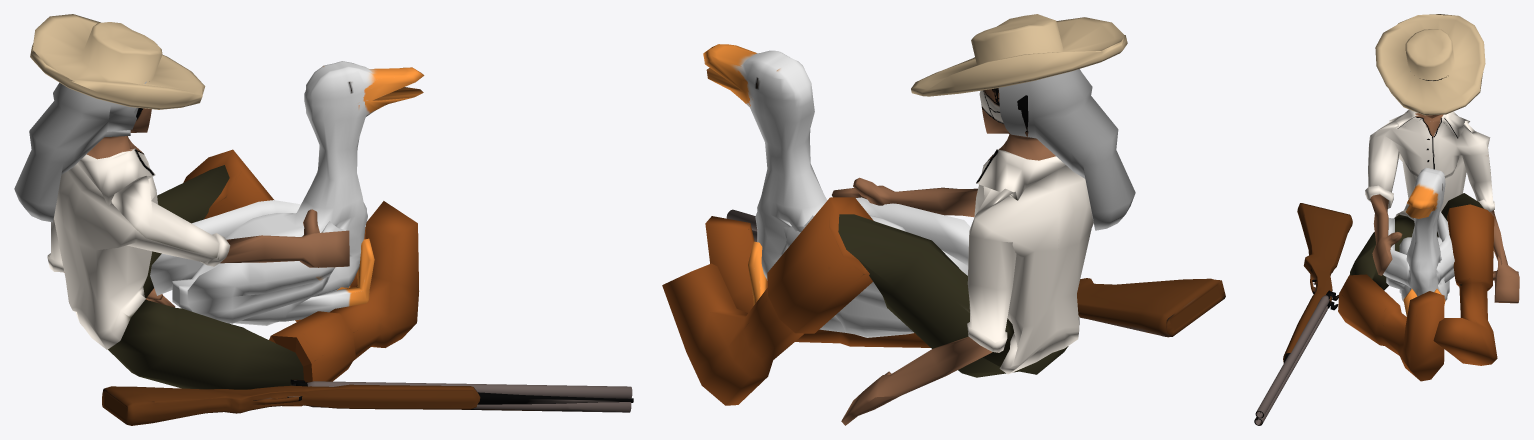
The model's file is bowmari_1.obj.
3 views of the same model, side by side, from view 1: azimuth 30°, elevation 25°; view 2: azimuth 150°, elevation 25°; view 3: azimuth 270°, elevation 25° (orthographic). The views are drawn at different scales.
Visible parts, largest first — view 1: Default_Body_Cube, Cube.005, SHOTGUN_Cube.007, Hat_Cylinder, Hair_Cube.004; view 2: Default_Body_Cube, Cube.005, Hair_Cube.004, Hat_Cylinder, SHOTGUN_Cube.007; view 3: Default_Body_Cube, Hat_Cylinder, Cube.005, SHOTGUN_Cube.007.
Part boxes in pixels (x1,y1,x2,y2): Default_Body_Cube: [47, 108, 419, 406]; Cube.005: [150, 61, 424, 325]; SHOTGUN_Cube.007: [102, 379, 633, 425]; Hat_Cylinder: [30, 14, 205, 109]; Hair_Cube.004: [14, 81, 146, 222]; Default_Body_Cube: [662, 88, 1093, 425]; Cube.005: [703, 44, 970, 337]; Hair_Cube.004: [998, 69, 1135, 230]; Hat_Cylinder: [911, 14, 1127, 96]; SHOTGUN_Cube.007: [726, 209, 1225, 337]; Default_Body_Cube: [1338, 109, 1519, 381]; Hat_Cylinder: [1375, 14, 1485, 115]; Cube.005: [1383, 167, 1454, 316]; SHOTGUN_Cube.007: [1254, 203, 1352, 425].
Size of the model in its own units: 6.91 by 5.23 by 4.79.
